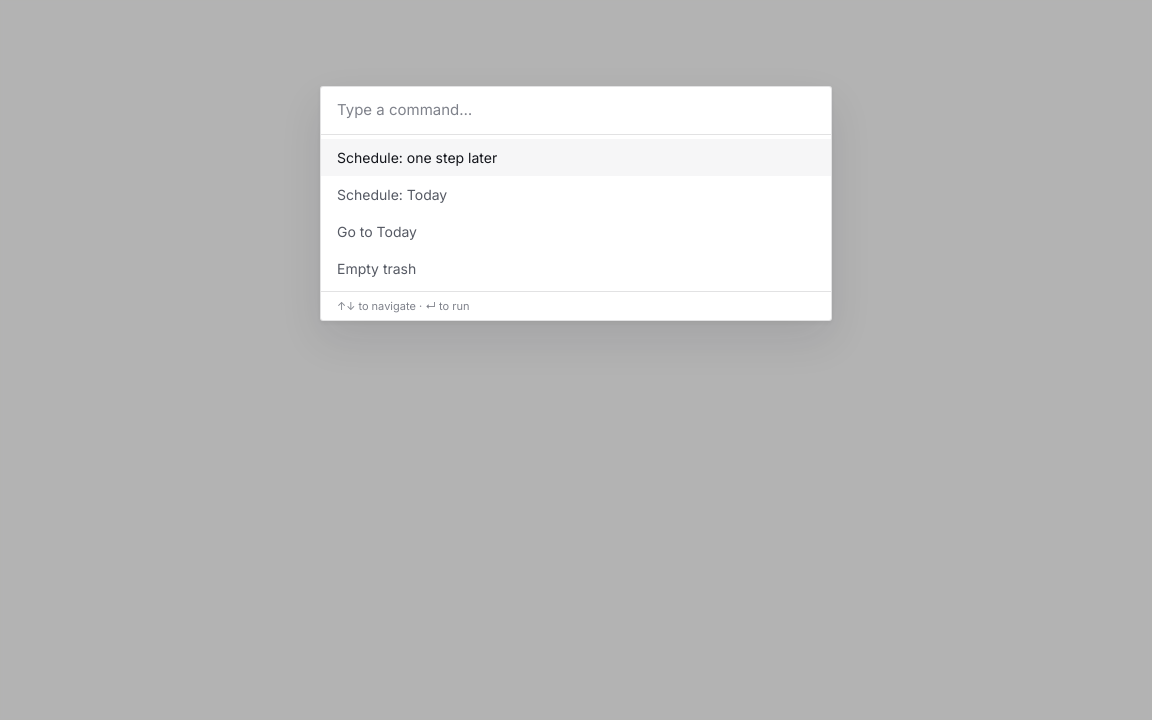
CommandPalette subsequence filter › keeps single-token substring behavior unchanged
Type "today" into the field with placeholder "Type a command…".
click(576, 111); type("today")  # box [321,87,831,135]
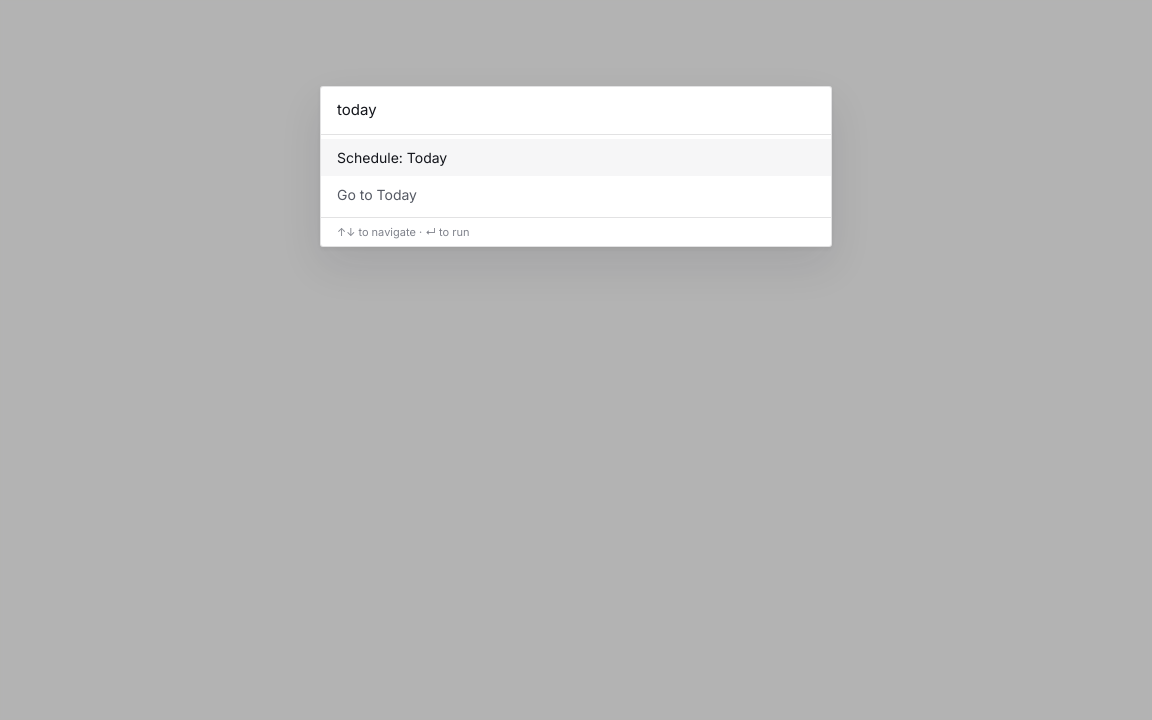
Check: the text "Schedule: Today" is shown, box [337,147,455,168]
Check: the option "Empty trash" is gone
